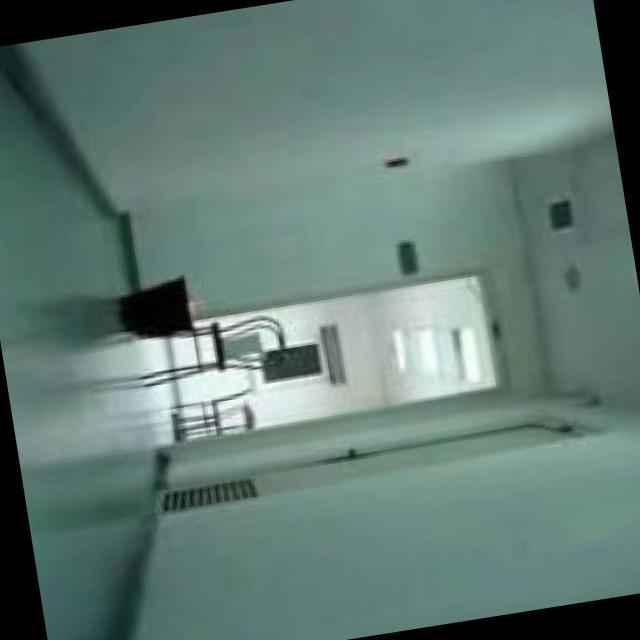Fire: (191, 290, 209, 317)
